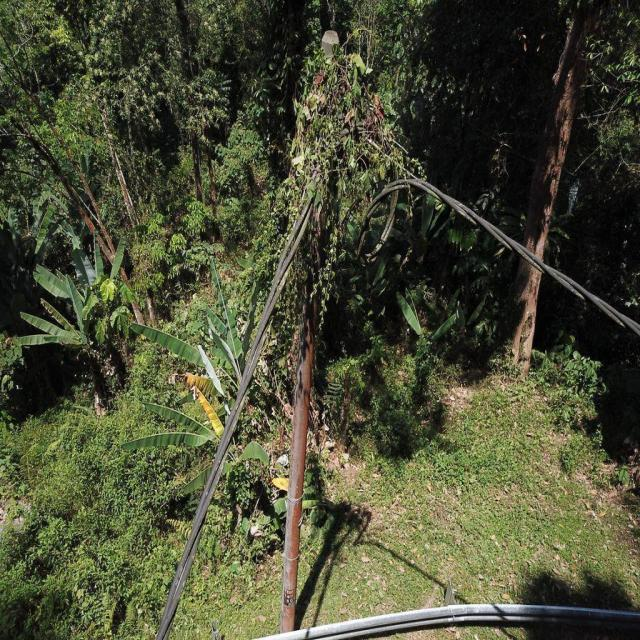critical vegetation: (272, 34, 407, 347)
